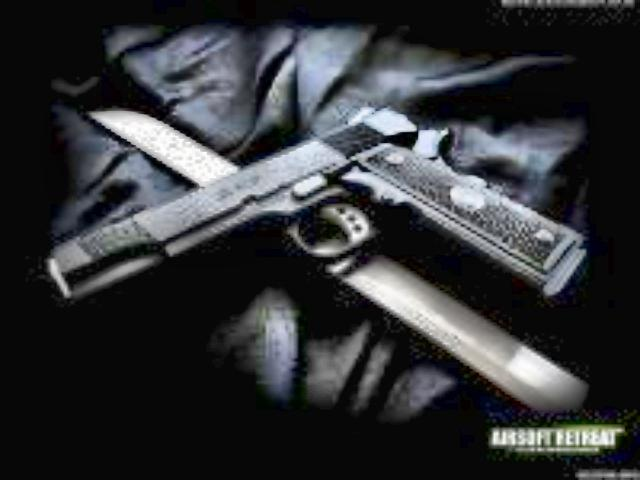pistol: (23, 100, 589, 304)
